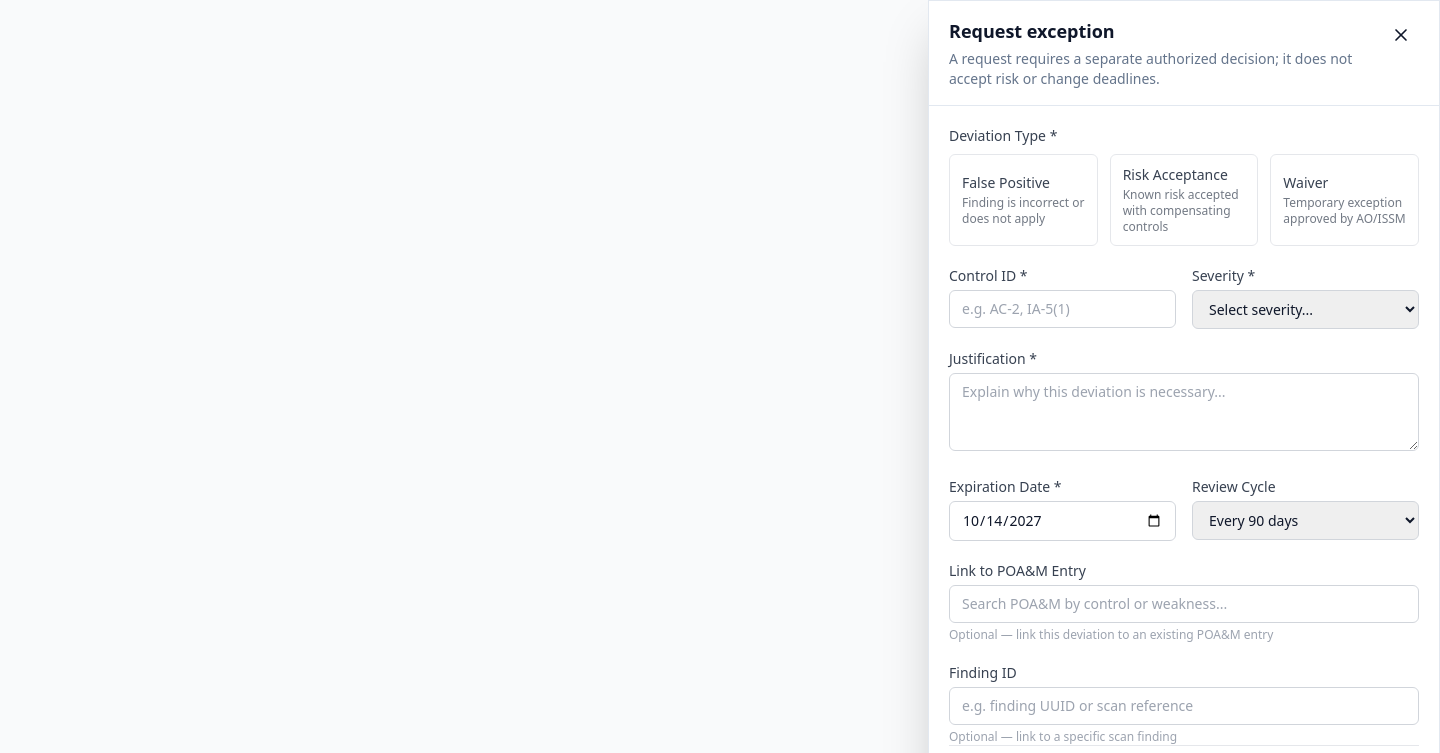
Test: POA&M exception request › surfaces POA&M search errors instead of claiming there are no matching records
In the field with placeholder "Search POA&M by control or weakness...": (1184, 604) [949,585,1419,623], type "AC"
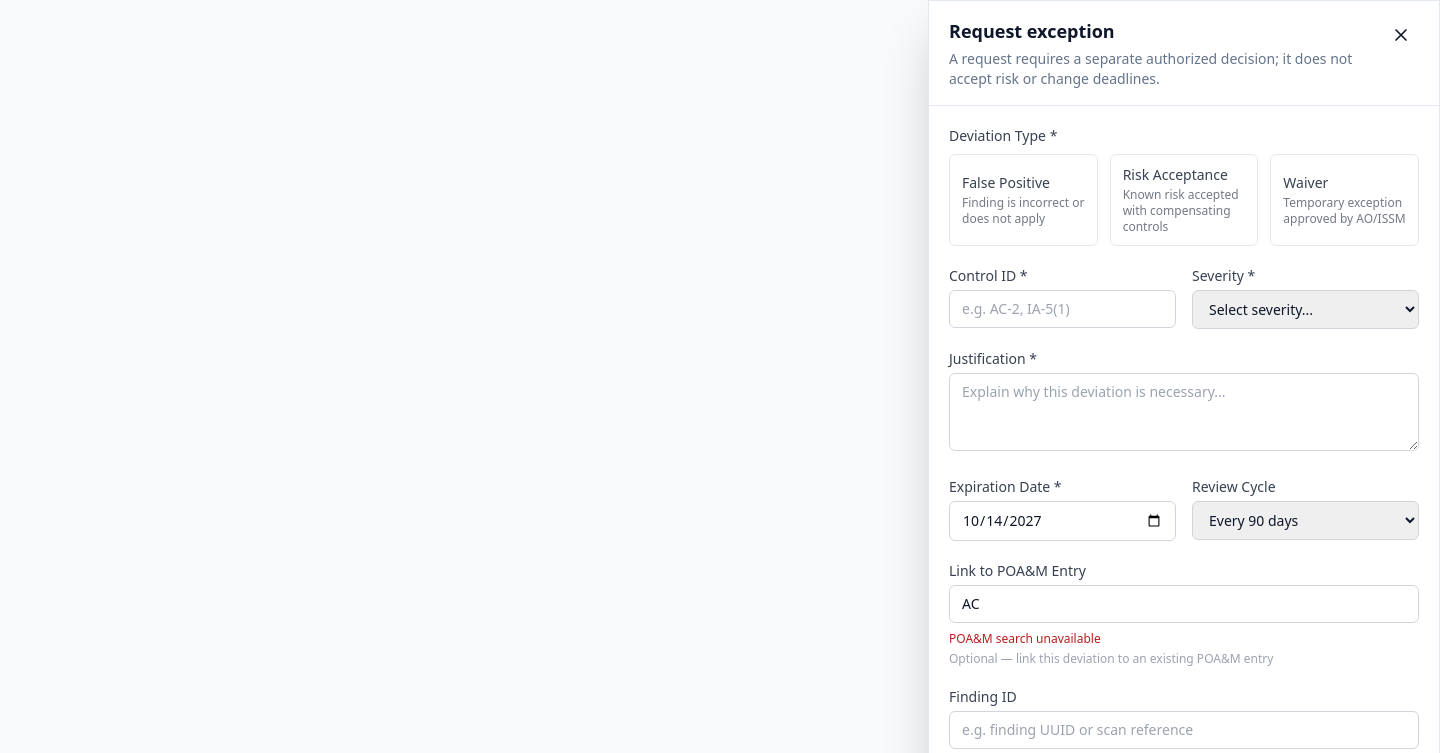
Expected: the message reads "POA&M search unavailable", [949,630,1101,647]
